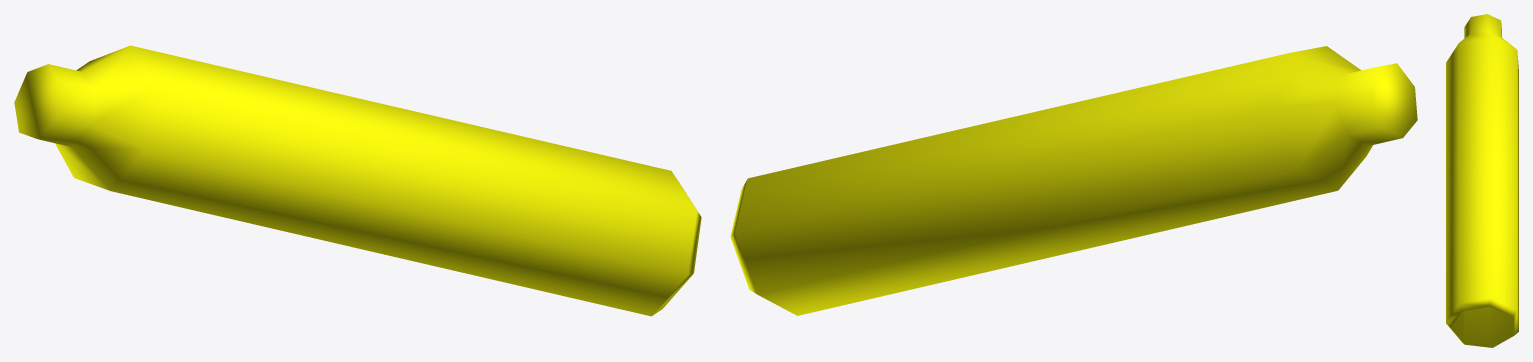
File: character_gun_l_0Model.glb
3 renders of one model, left to right at view 1: azimuth 30°, elevation 25°; view 2: azimuth 150°, elevation 25°; view 3: azimuth 270°, elevation 25°, orthographic. The views are drawn at different scales.
Visible parts, largest first — view 1: character_gun_l_0; view 2: character_gun_l_0; view 3: character_gun_l_0.
Part boxes in pixels (left/top/right/bottom): character_gun_l_0: left=14, top=45, right=701, bottom=316; character_gun_l_0: left=730, top=46, right=1417, bottom=315; character_gun_l_0: left=1446, top=14, right=1518, bottom=347.
Size of the model in its own units: 0.5449 by 0.3026 by 0.1042.
Materials: 1 (1 with a texture image).
